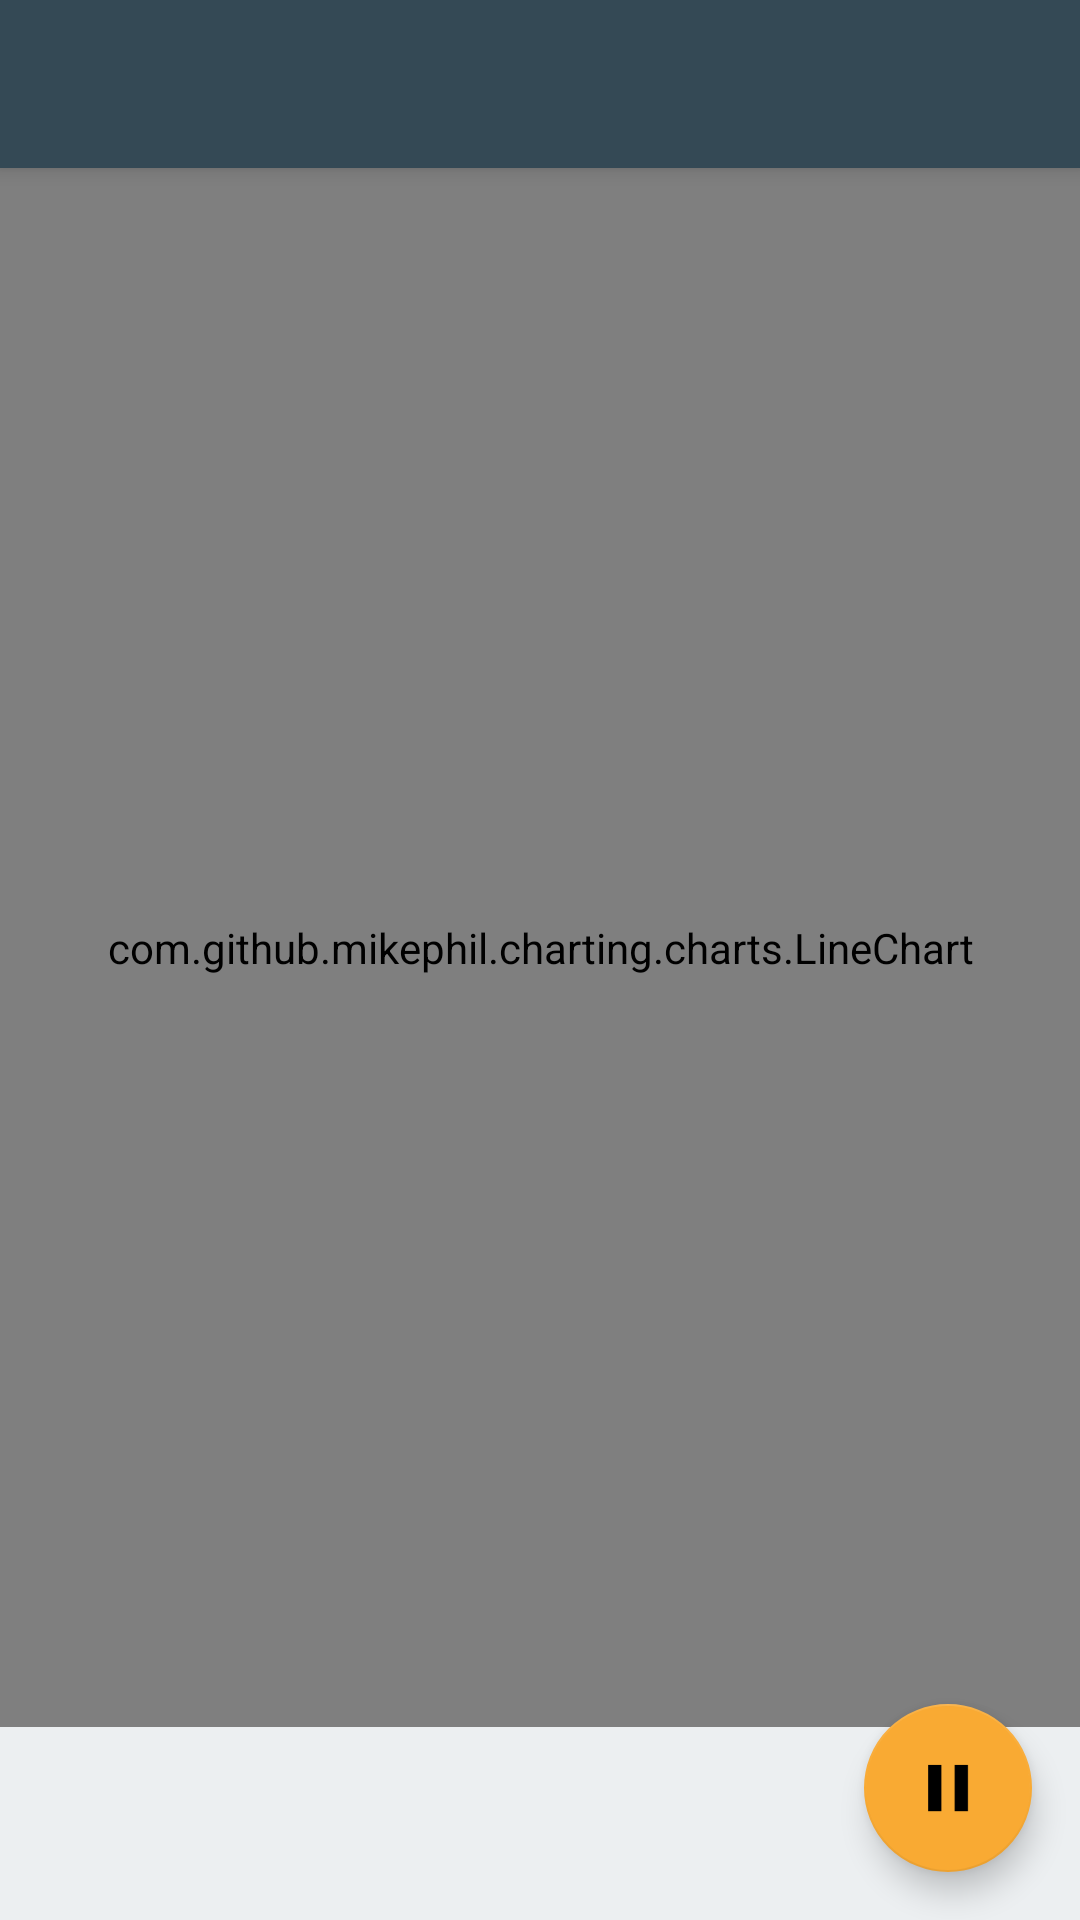

Screen size 1080×1920. Icon name, then its center in pixels as (x,y):
pause: (948,1788)
